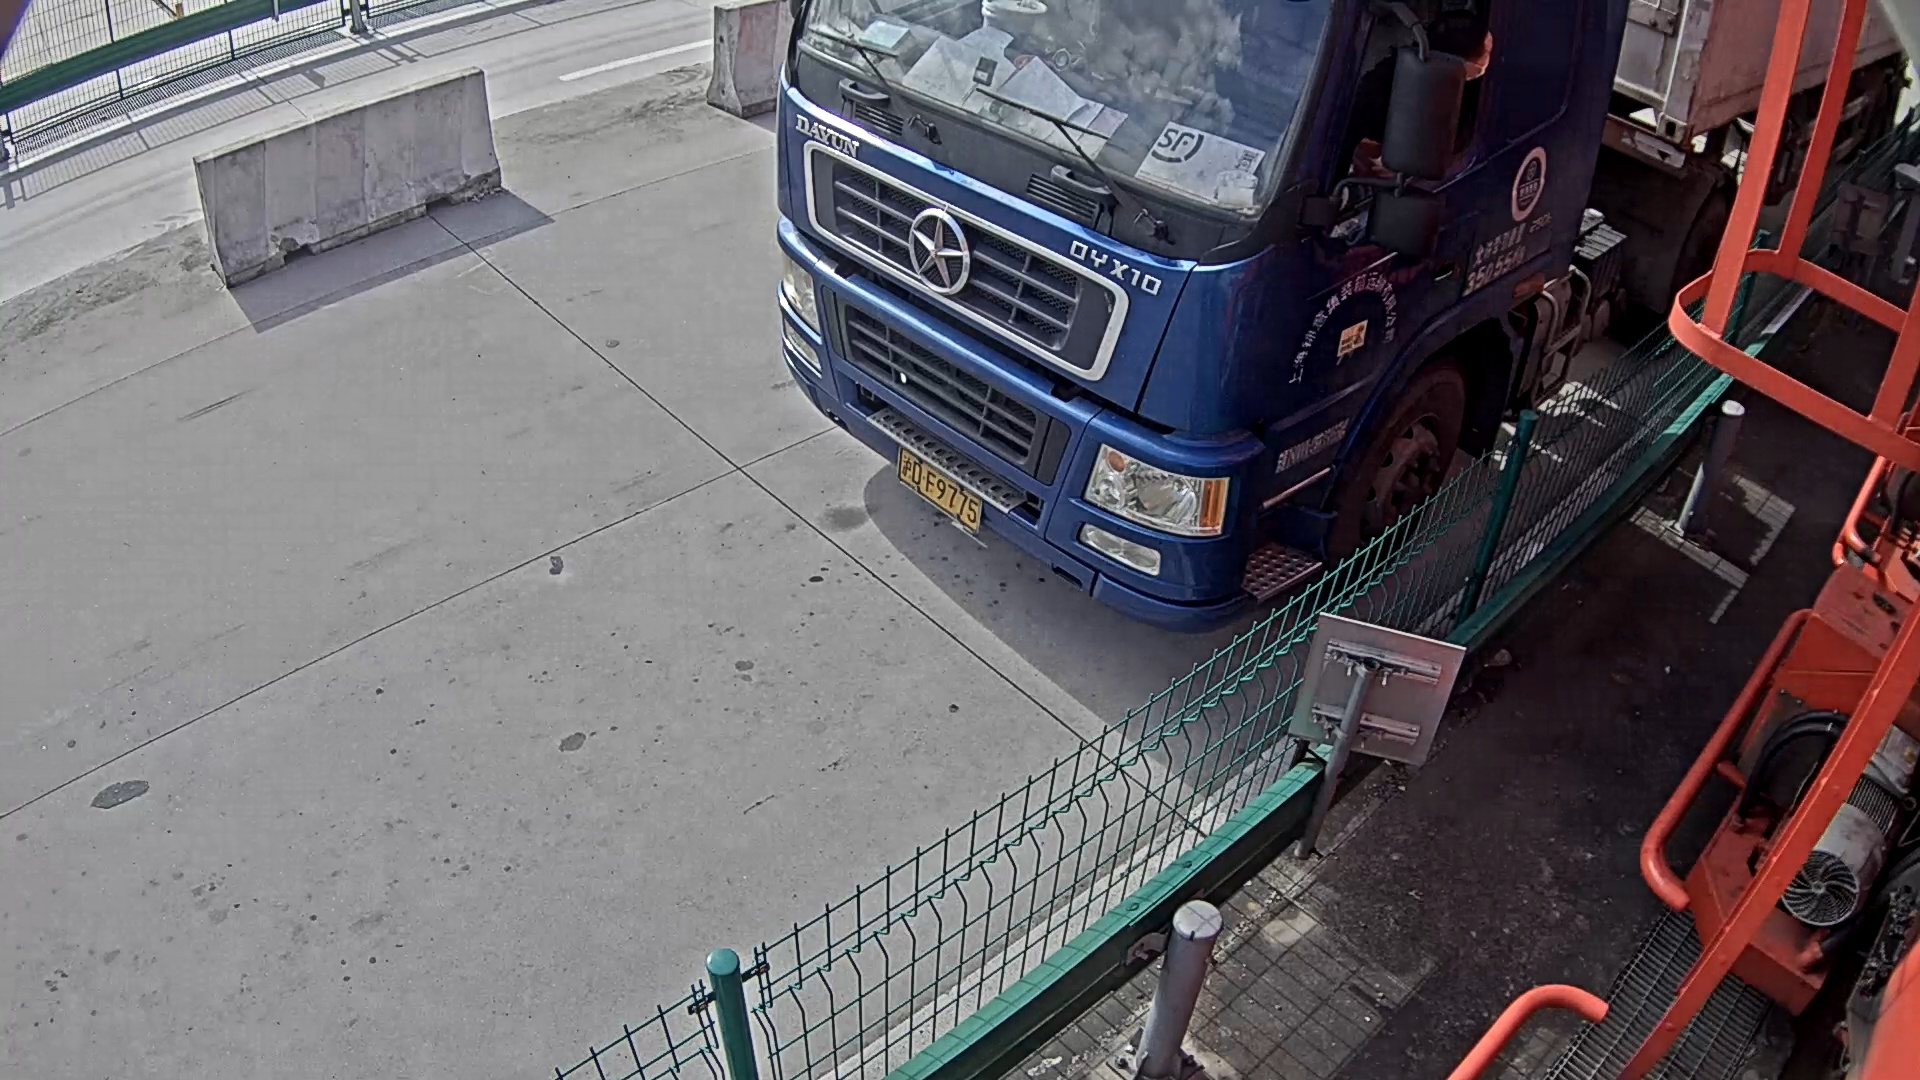head: (766, 1, 1615, 612)
plate: (891, 449, 982, 535)
